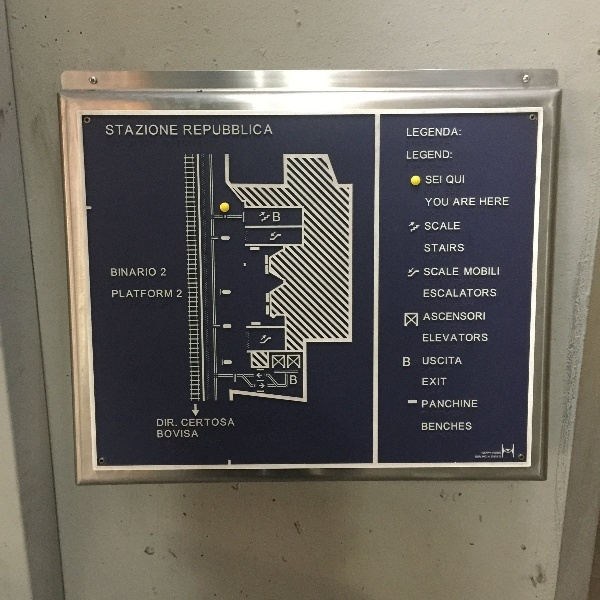text: (113, 120, 128, 140), (129, 120, 144, 140), (145, 120, 160, 140), (161, 120, 176, 140), (161, 413, 176, 430), (177, 413, 192, 430), (193, 413, 208, 430), (209, 413, 224, 430), (193, 122, 208, 138), (209, 122, 224, 138), (225, 122, 240, 138), (241, 122, 256, 138), (257, 122, 272, 138), (113, 265, 128, 280), (129, 265, 144, 280), (417, 125, 432, 140), (433, 125, 448, 140), (449, 125, 464, 140), (417, 148, 432, 163), (433, 148, 448, 163), (433, 265, 448, 279), (225, 413, 237, 430), (113, 287, 128, 300), (129, 287, 144, 300), (145, 287, 160, 300), (433, 331, 448, 344), (449, 331, 464, 344), (465, 331, 480, 344), (145, 265, 157, 280), (289, 374, 304, 386), (433, 221, 448, 233), (433, 355, 448, 367), (449, 355, 464, 367), (273, 209, 284, 225), (449, 174, 465, 185), (449, 243, 465, 254), (405, 125, 416, 140), (433, 197, 448, 208), (481, 196, 496, 207), (433, 243, 448, 254), (465, 266, 480, 277), (481, 266, 496, 277), (433, 311, 448, 322), (449, 311, 464, 322), (465, 311, 480, 322), (433, 377, 448, 388), (433, 399, 448, 410), (449, 399, 464, 410), (433, 421, 448, 432), (449, 421, 464, 432), (481, 288, 497, 298), (161, 287, 173, 300), (449, 265, 460, 279), (161, 429, 176, 439), (177, 429, 192, 439), (433, 288, 448, 298), (449, 288, 464, 298), (465, 288, 480, 298), (183, 122, 192, 138), (449, 221, 461, 233), (465, 399, 478, 410), (407, 148, 416, 163), (481, 451, 496, 460), (465, 196, 477, 207), (497, 196, 509, 207), (422, 331, 432, 344), (421, 377, 432, 388), (421, 421, 432, 432), (106, 120, 112, 140), (433, 173, 443, 185), (424, 265, 432, 279), (454, 196, 464, 207), (422, 399, 432, 410), (423, 355, 432, 367), (481, 331, 489, 344), (449, 148, 455, 163), (424, 243, 432, 254), (465, 421, 473, 432), (425, 173, 432, 185), (425, 221, 432, 233), (424, 288, 432, 298), (425, 197, 432, 208), (177, 288, 183, 300), (193, 429, 200, 439), (156, 413, 160, 430), (426, 311, 432, 322), (481, 311, 487, 322), (161, 266, 166, 279), (474, 451, 480, 460), (497, 451, 502, 460), (177, 120, 179, 140), (445, 174, 448, 185), (497, 266, 500, 277), (273, 122, 275, 138), (110, 265, 112, 280), (157, 429, 160, 439), (271, 209, 272, 225), (449, 197, 450, 208), (479, 196, 480, 207)
